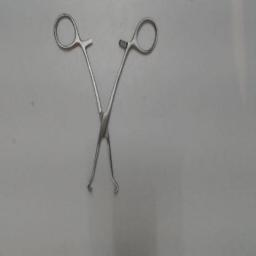Babcock Tissue Forceps: (48, 12, 164, 198)
